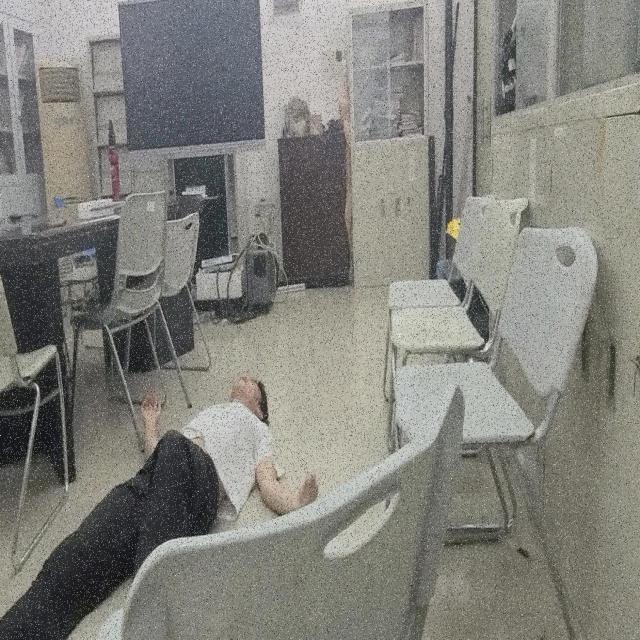fall: (0, 366, 322, 640)
